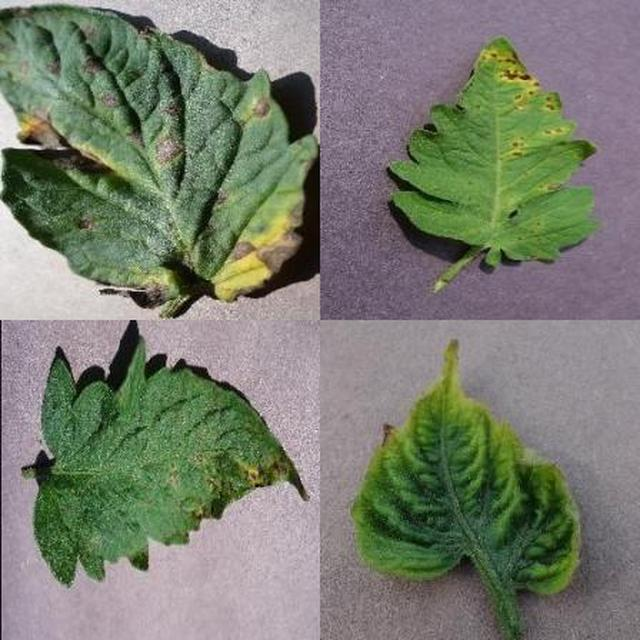Early Blight Leaf: (228, 214, 640, 640)
